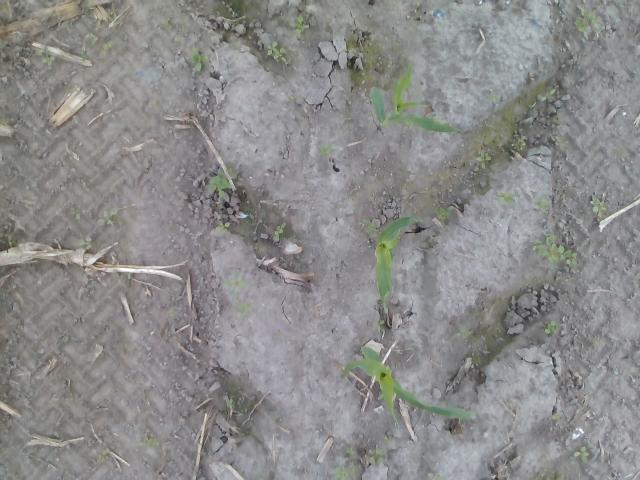Maize: (341, 346, 476, 428), (370, 63, 466, 136), (372, 215, 418, 306)
Weeds: (528, 232, 578, 267), (207, 164, 234, 199), (334, 446, 360, 480), (574, 5, 600, 32), (190, 46, 209, 71), (222, 270, 246, 288), (266, 40, 286, 60), (98, 208, 120, 226), (294, 15, 308, 40), (37, 48, 54, 66), (367, 447, 384, 465), (574, 446, 590, 465), (495, 190, 513, 206), (432, 204, 450, 220), (590, 198, 608, 213), (143, 432, 159, 448), (476, 152, 492, 168), (274, 222, 286, 243), (318, 142, 332, 159), (214, 220, 231, 234), (509, 138, 526, 152), (544, 318, 557, 336), (240, 302, 254, 318), (486, 88, 502, 102), (78, 236, 93, 250), (96, 451, 110, 463), (372, 318, 386, 330), (455, 327, 473, 336), (535, 198, 551, 208), (71, 208, 83, 221), (438, 172, 449, 186), (366, 222, 377, 233), (8, 234, 18, 246), (225, 398, 236, 408), (364, 9, 376, 18), (110, 8, 118, 19), (552, 136, 561, 145), (102, 42, 112, 50), (550, 412, 560, 420), (432, 474, 444, 480), (288, 94, 294, 103)
